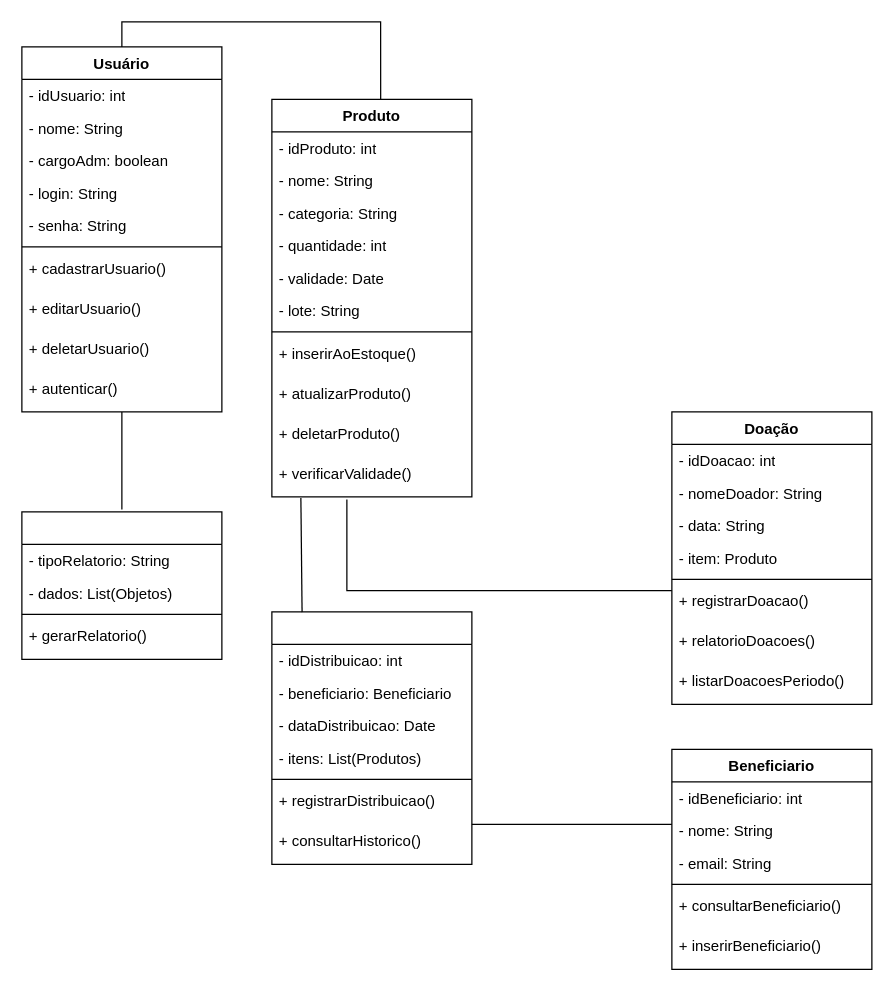
The diagram is 894 pixels wide and 995 high, and some of its shapes have lost their labels. Each missing label, with the box of its shape:
Distribuição: (271, 611, 472, 864)
Relatório: (21, 511, 222, 659)
